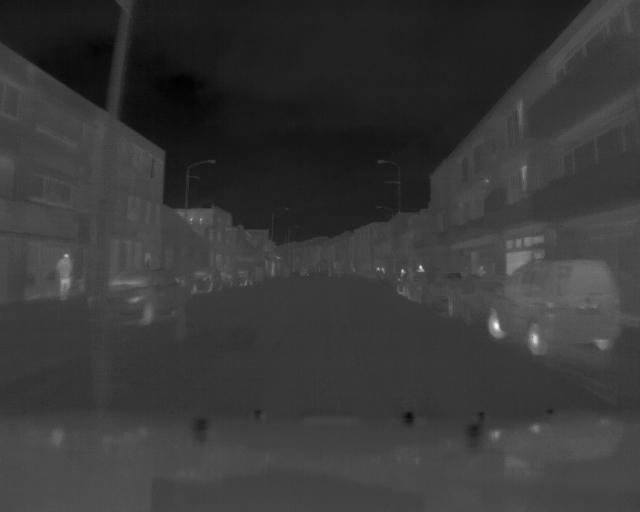car: (485, 257, 624, 356), (107, 267, 185, 324), (446, 271, 494, 325)
person: (52, 247, 76, 302)
